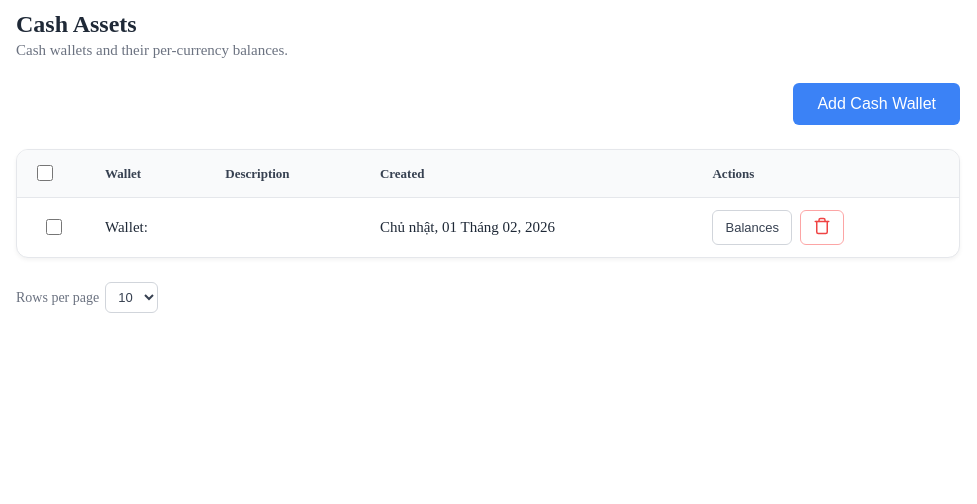
Scenario: CashAssets (page) › loads wallets and currencies on init
expect the text "Wallet:" is shown: met, box 89,198 -> 209,257
Click the button "Balances" at coordinates (752, 228), box 712,210 -> 792,245
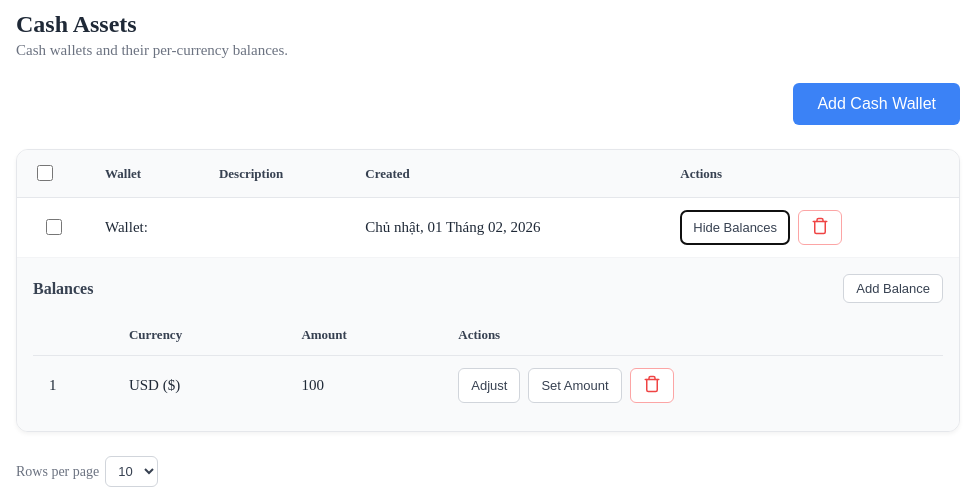
expect the text "USD ($)" is shown: met, box 113,356 -> 285,415
